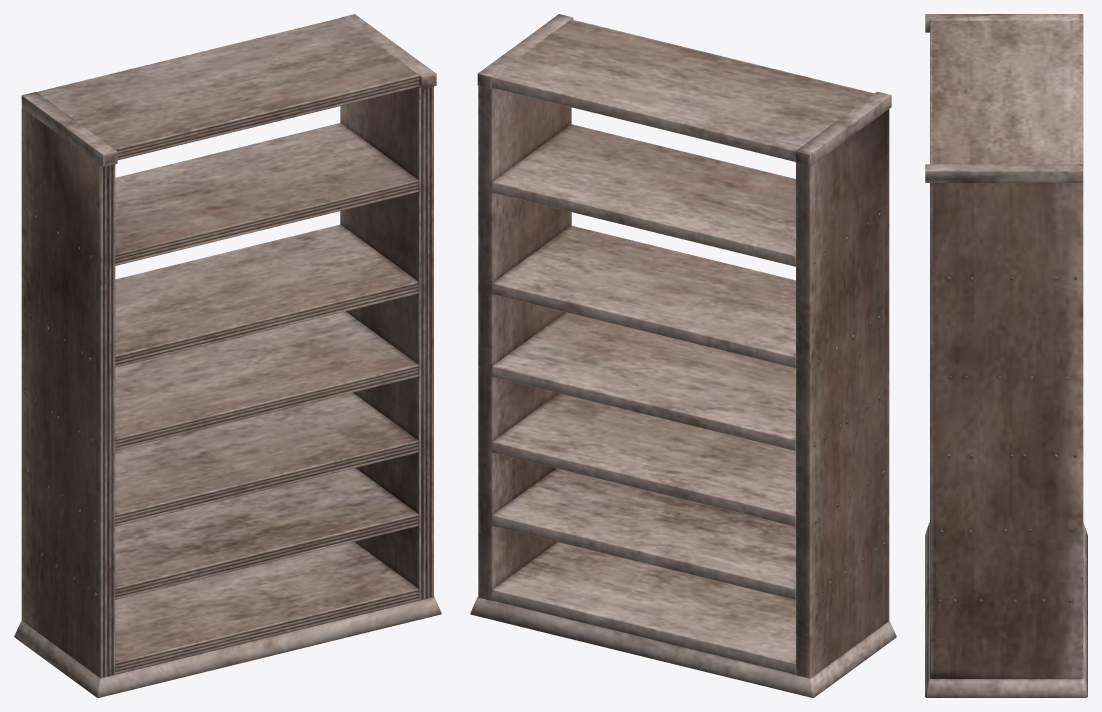
File: wooden_bookshelf_worn.glb
The picture shows the model from 3 angles, left to right: view 1: azimuth 30°, elevation 25°; view 2: azimuth 150°, elevation 25°; view 3: azimuth 270°, elevation 25°; orthographic projection. The views are drawn at different scales.
Parts seen in each view (by area): view 1: wooden_bookshelf_worn; view 2: wooden_bookshelf_worn; view 3: wooden_bookshelf_worn.
Boxes of the visible parts, x1,y1,x2,y2 form: wooden_bookshelf_worn: [14, 14, 441, 697]; wooden_bookshelf_worn: [470, 14, 896, 697]; wooden_bookshelf_worn: [925, 14, 1087, 697].
Size of the model in its own units: 1.37 by 2.06 by 0.5814.
Materials: 1 (1 with a texture image).
